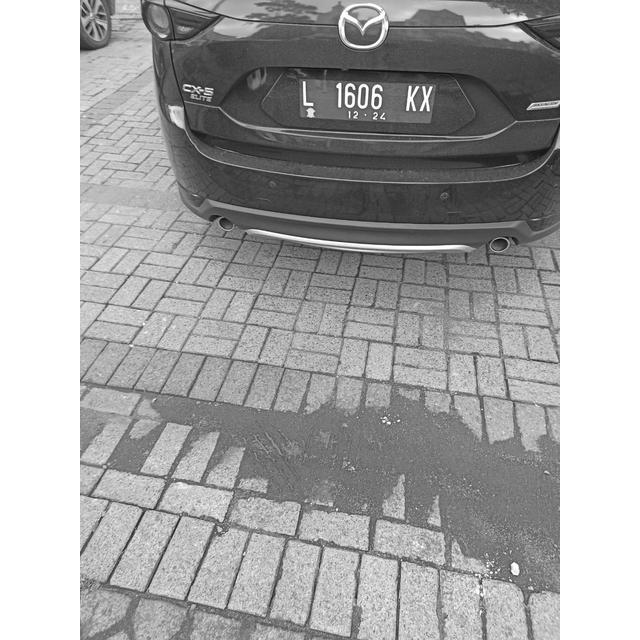license: (301, 79, 435, 122)
